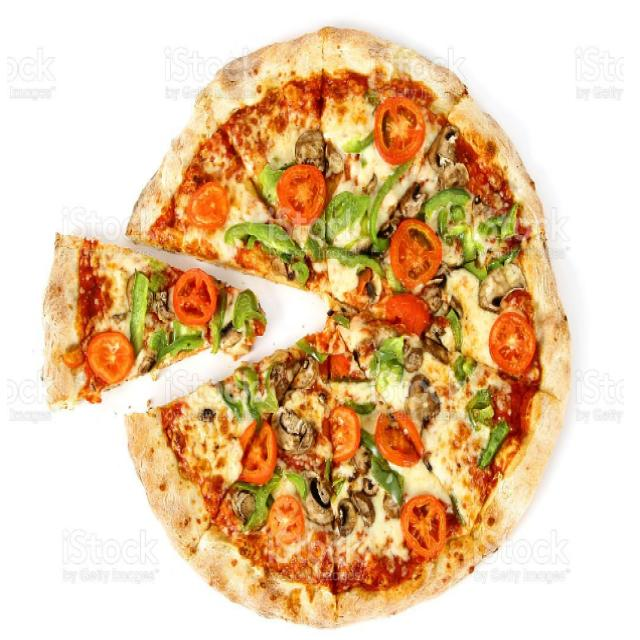Vegetarian Pizza: (324, 41, 581, 392)
